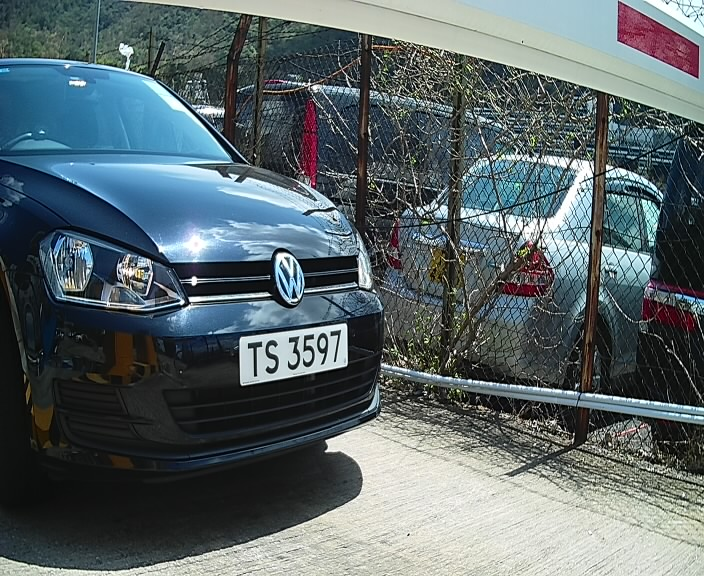License Plate: (232, 318, 352, 389)
